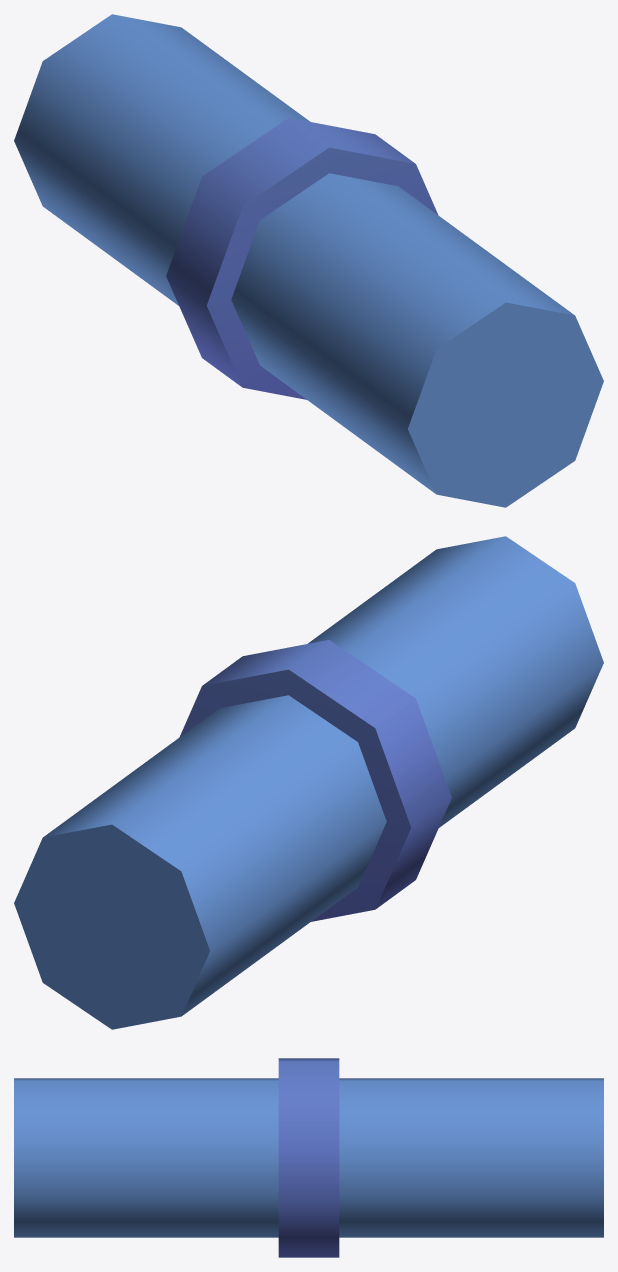
Rendered from support-large-horizontal-ring.glb.
3 renders of one model, top to bottom at view 1: azimuth 30°, elevation 25°; view 2: azimuth 150°, elevation 25°; view 3: azimuth 270°, elevation 25°, orthographic. The views are drawn at different scales.
Parts seen in each view (by area): view 1: support-large-horizontal-ring; view 2: support-large-horizontal-ring; view 3: support-large-horizontal-ring.
Boxes of the visible parts, bbox=[...] form: support-large-horizontal-ring: bbox=[14, 14, 603, 507]; support-large-horizontal-ring: bbox=[14, 536, 603, 1029]; support-large-horizontal-ring: bbox=[14, 1058, 603, 1257].
Size of the model in its own units: 0.3595 by 0.3595 by 1.
Materials: 1 (1 with a texture image).
